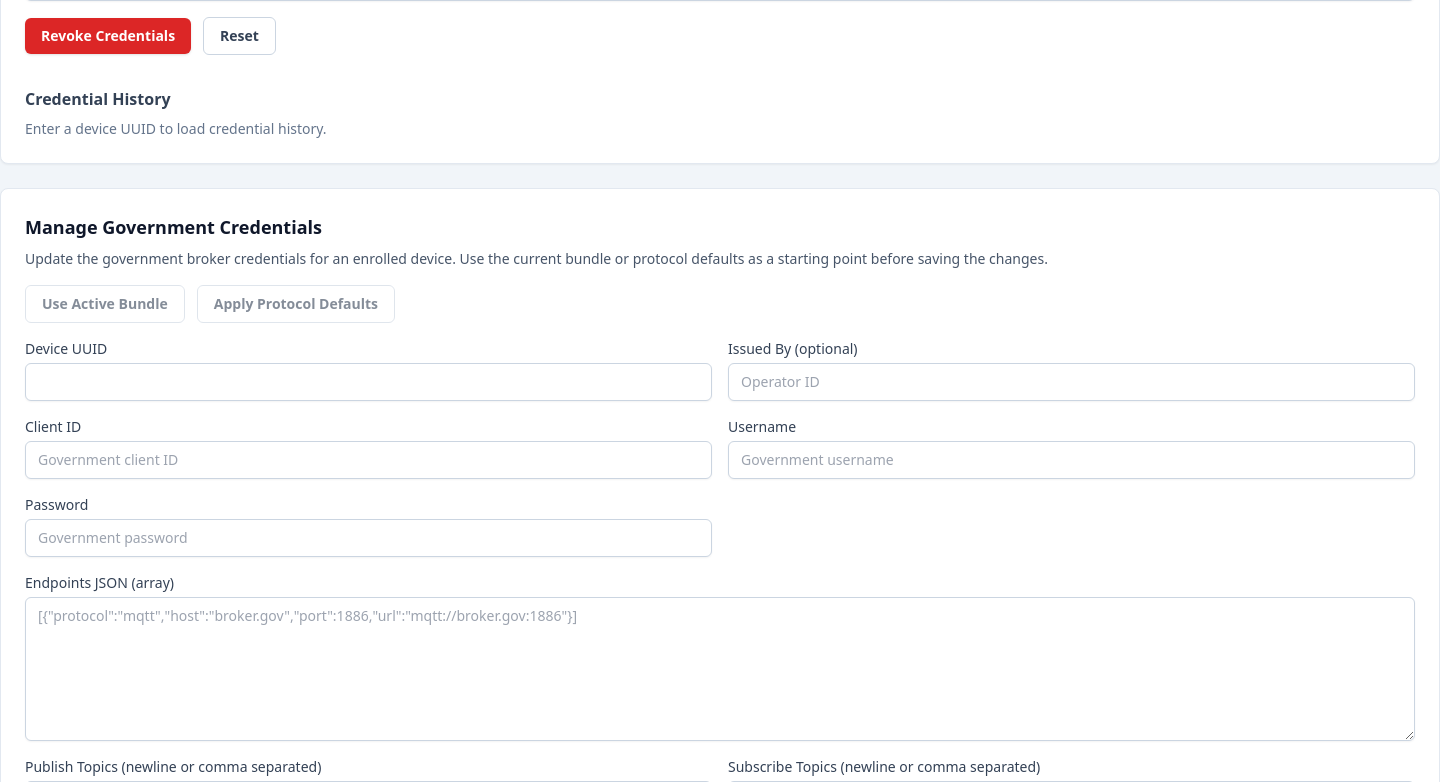
Test: DeviceConfigurationPage government credentials › prefills fields from the active government bundle when requested
(page scrolled)
Type "device-uuid-1" into the field labelled "Device UUID" at {"x": 368, "y": 382}, box [25,363,712,401]
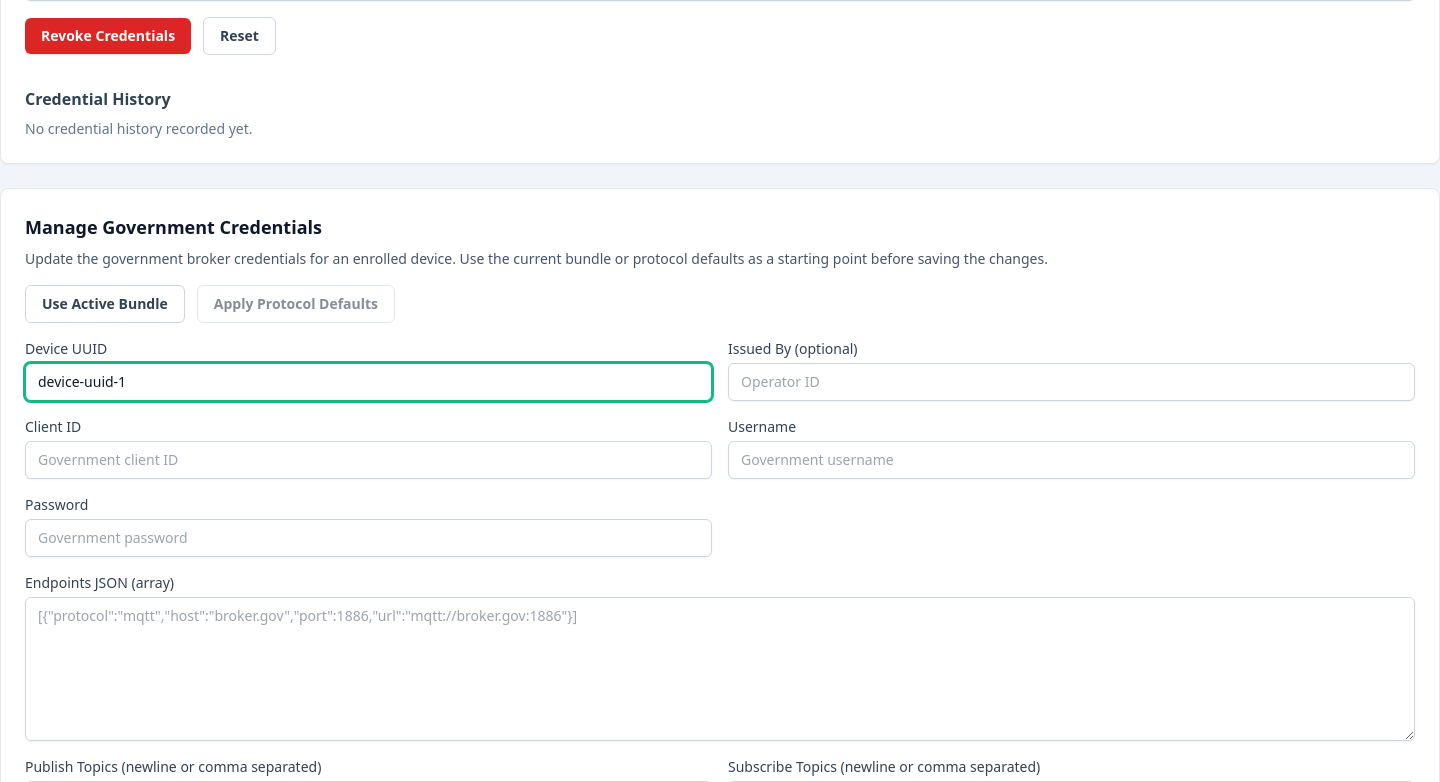
Click the button "Use Active Bundle" at {"x": 105, "y": 304}, box [25,285,185,323]
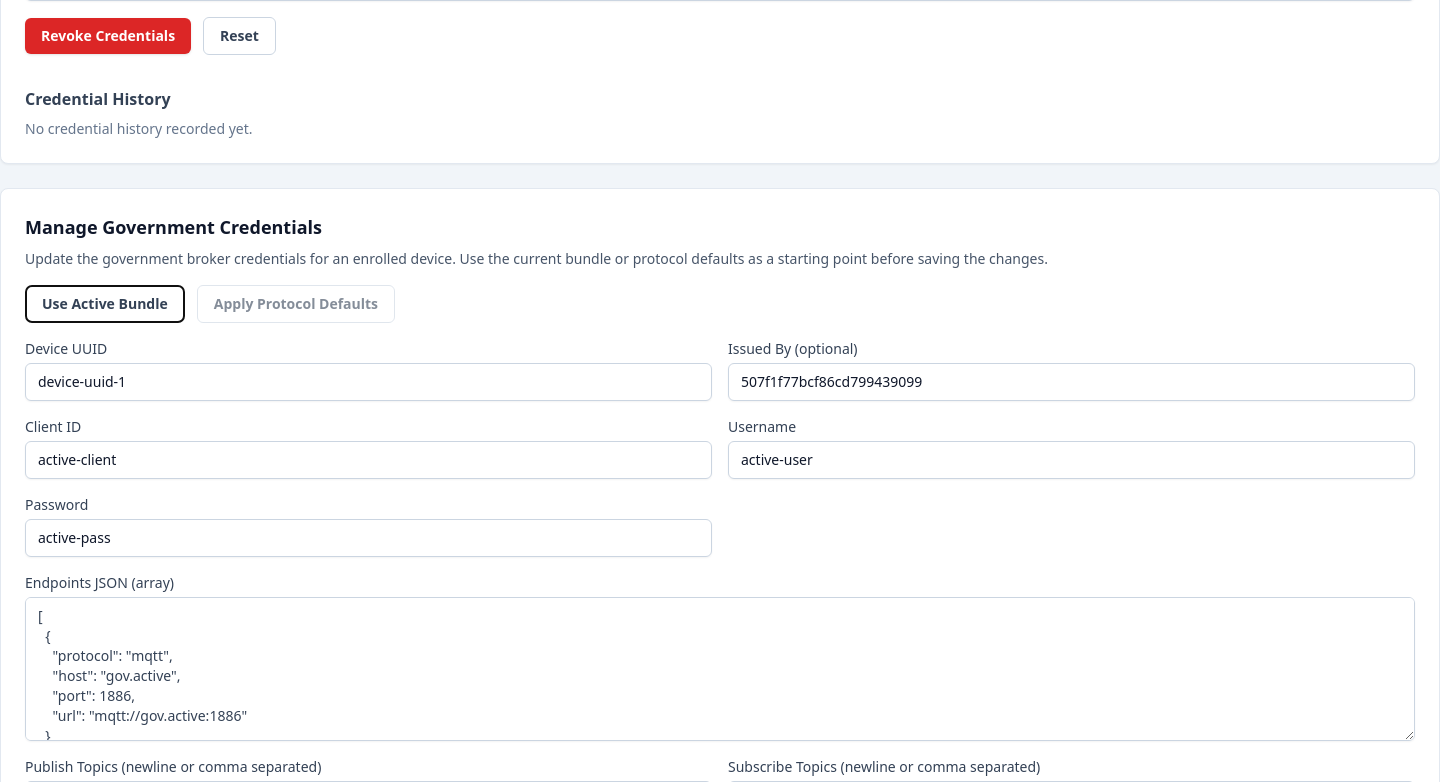
expect the field labelled "Client ID" holds "active-client": met, box [25,441,712,479]
expect the field labelled "Username" holds "active-user": met, box [728,441,1415,479]
expect the field labelled "Password" holds "active-pass": met, box [25,519,712,557]
